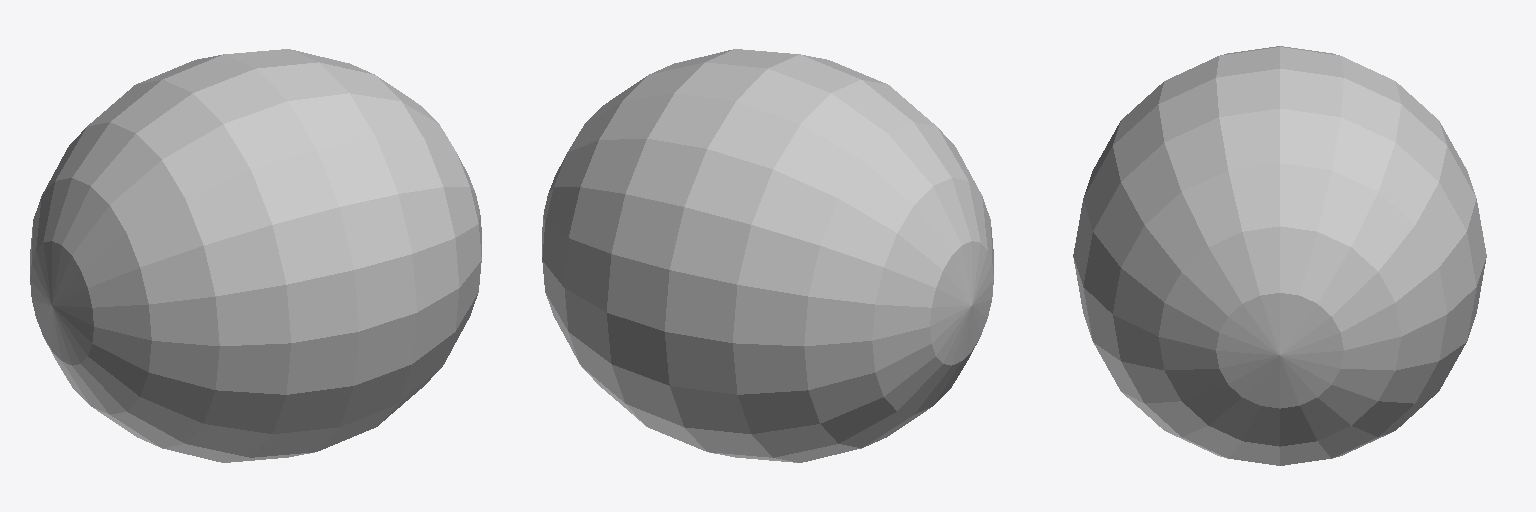
The model's file is original-20.obj.
3 renders of one model, left to right at view 1: azimuth 30°, elevation 25°; view 2: azimuth 150°, elevation 25°; view 3: azimuth 270°, elevation 25°, orthographic.
Parts seen in each view (by area): view 1: mesh6/mesh6-geometry#mesh6-geometry; view 2: mesh6/mesh6-geometry#mesh6-geometry; view 3: mesh6/mesh6-geometry#mesh6-geometry.
Part boxes in pixels (left/top/right/bottom): mesh6/mesh6-geometry#mesh6-geometry: left=30, top=49, right=481, bottom=462; mesh6/mesh6-geometry#mesh6-geometry: left=542, top=49, right=993, bottom=462; mesh6/mesh6-geometry#mesh6-geometry: left=1073, top=46, right=1486, bottom=465.
Bounding box in the file's own units: 0.2942 × 0.2584 × 0.2584.